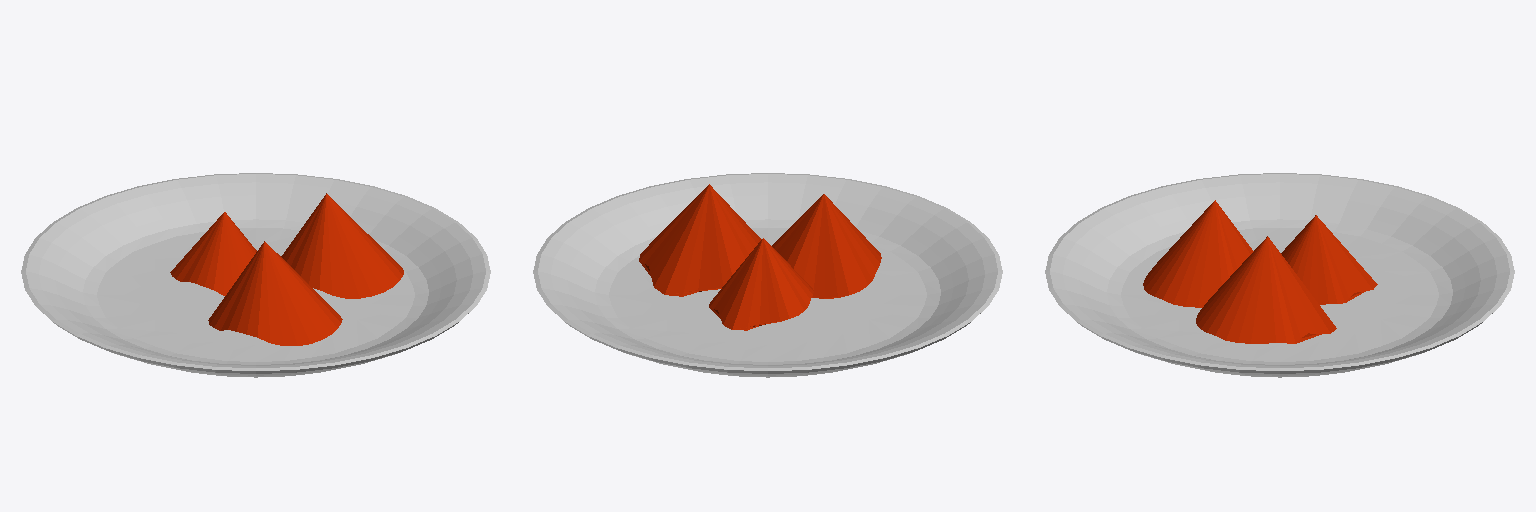
Rendered from burayot.obj.
3 renders of one model, left to right at view 1: azimuth 30°, elevation 25°; view 2: azimuth 150°, elevation 25°; view 3: azimuth 270°, elevation 25°, orthographic.
Parts seen in each view (by area): view 1: Cylinder, Cone.001, Cone, Cone.002; view 2: Cylinder, Cone, Cone.001, Cone.002; view 3: Cylinder, Cone, Cone.001, Cone.002.
Boxes of the visible parts, x1,y1,x2,y2 form: Cylinder: [21, 173, 490, 377]; Cone.001: [208, 241, 342, 345]; Cone: [281, 193, 403, 298]; Cone.002: [170, 212, 256, 295]; Cylinder: [533, 173, 1002, 377]; Cone: [639, 184, 761, 296]; Cone.001: [772, 194, 881, 298]; Cone.002: [709, 238, 813, 330]; Cylinder: [1045, 173, 1514, 377]; Cone: [1196, 236, 1336, 343]; Cone.001: [1143, 200, 1253, 307]; Cone.002: [1281, 215, 1377, 304].
Bounding box in the file's own units: 2.31 × 0.5579 × 2.31.